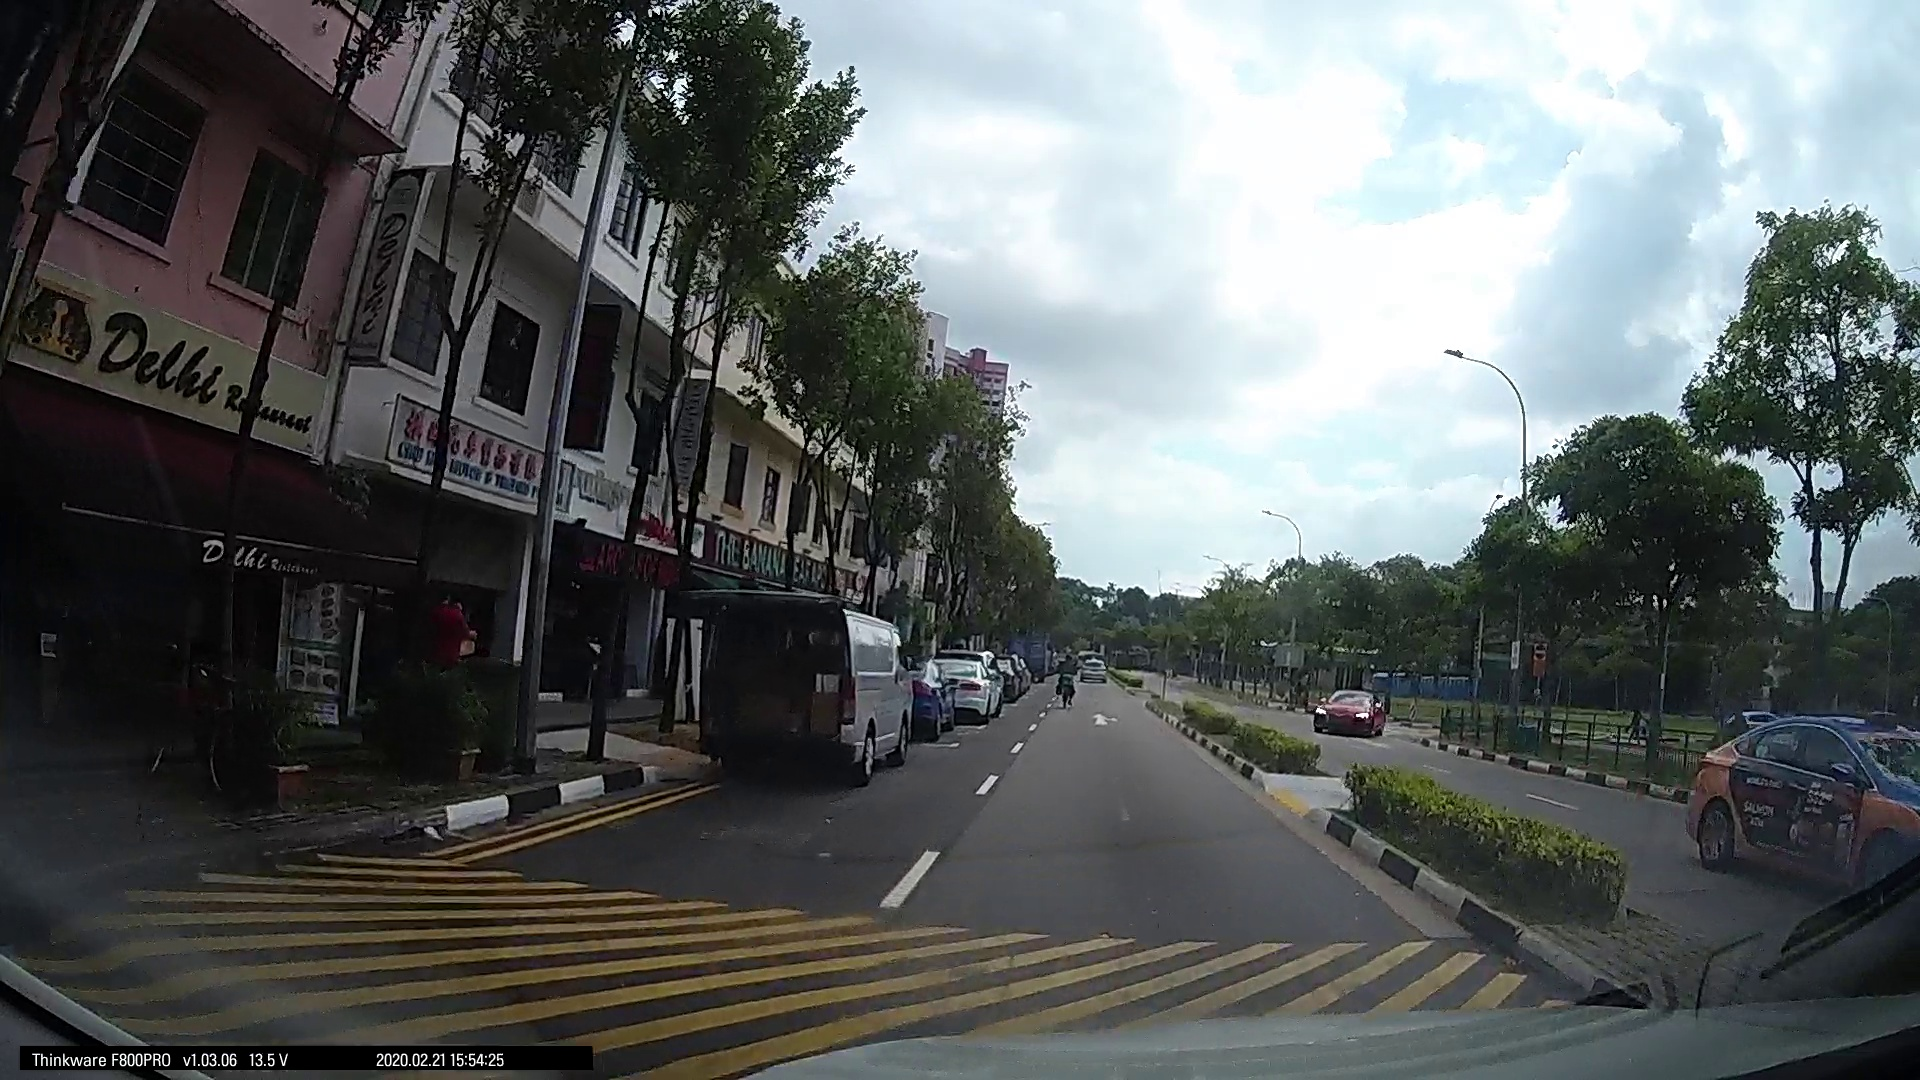Light Vehicle: (688, 585, 913, 785), (1679, 708, 1909, 899), (918, 647, 1000, 723), (1308, 679, 1387, 737)
